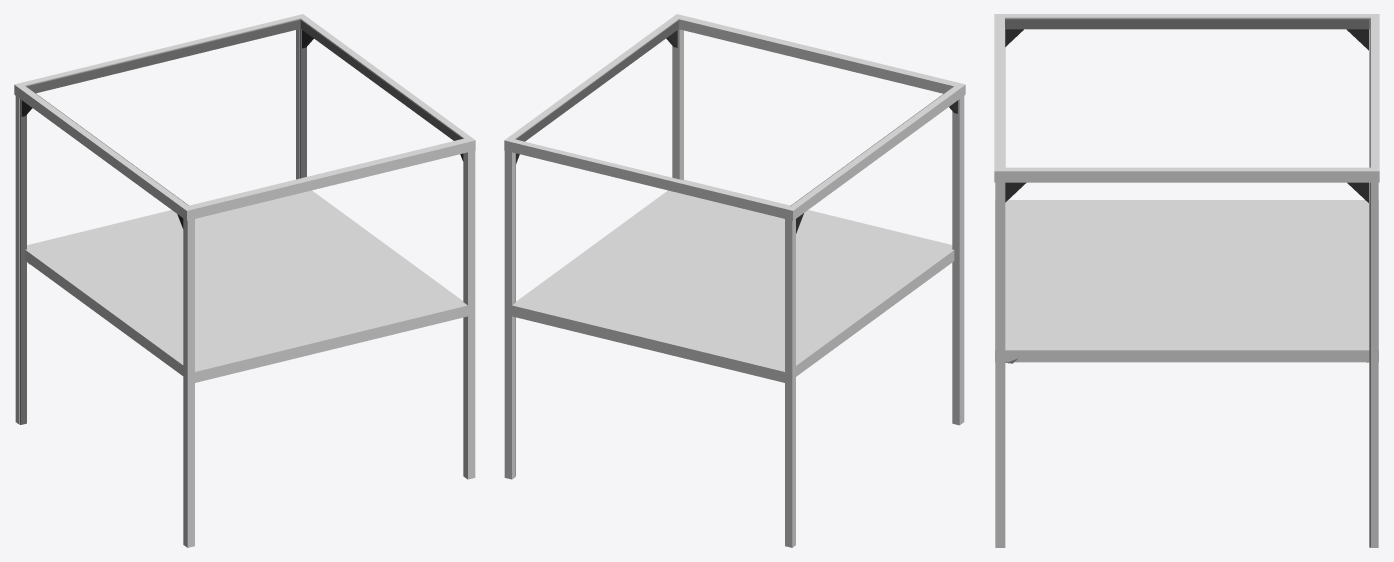
Rendered from model_shelf_unit_01.fbx.
3 views of the same model, side by side, from view 1: azimuth 30°, elevation 25°; view 2: azimuth 150°, elevation 25°; view 3: azimuth 270°, elevation 25° (orthographic). The views are drawn at different scales.
Parts seen in each view (by area): view 1: model_shelf_unit_01_col, model_shelf_unit_01; view 2: model_shelf_unit_01_col, model_shelf_unit_01; view 3: model_shelf_unit_01_col, model_shelf_unit_01.
Part boxes in pixels (x1,y1,x2,y2): model_shelf_unit_01_col: (14, 14, 475, 547); model_shelf_unit_01: (20, 19, 463, 424); model_shelf_unit_01_col: (504, 14, 965, 547); model_shelf_unit_01: (515, 20, 957, 475); model_shelf_unit_01_col: (994, 14, 1379, 547); model_shelf_unit_01: (1005, 18, 1370, 547).
Bounding box in the file's own units: 256 × 286 × 265.
2 materials, 1 textured.
